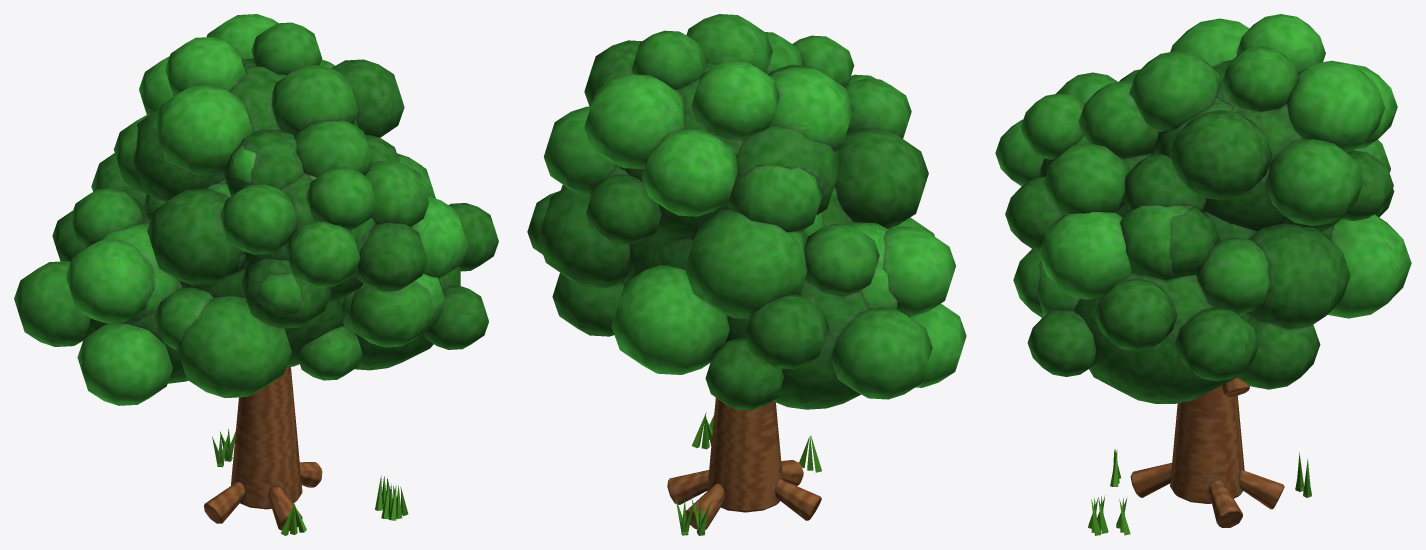
The model's file is elderberry_tree.glb.
3 views of the same model, side by side, from view 1: azimuth 30°, elevation 25°; view 2: azimuth 150°, elevation 25°; view 3: azimuth 270°, elevation 25° (orthographic). The views are drawn at different scales.
Visible parts, largest first — view 1: crown, elderberry_tree; view 2: crown, elderberry_tree; view 3: crown, elderberry_tree.
Boxes of the visible parts, x1=… form: crown: x1=14, y1=14, x2=498, y2=405; elderberry_tree: x1=204, y1=367, x2=408, y2=535; crown: x1=527, y1=14, x2=966, y2=410; elderberry_tree: x1=667, y1=397, x2=821, y2=535; crown: x1=995, y1=14, x2=1411, y2=403; elderberry_tree: x1=1088, y1=377, x2=1311, y2=535.
Bounding box in the file's own units: 1.15 × 1.23 × 0.9778.
1 material, 1 textured.
